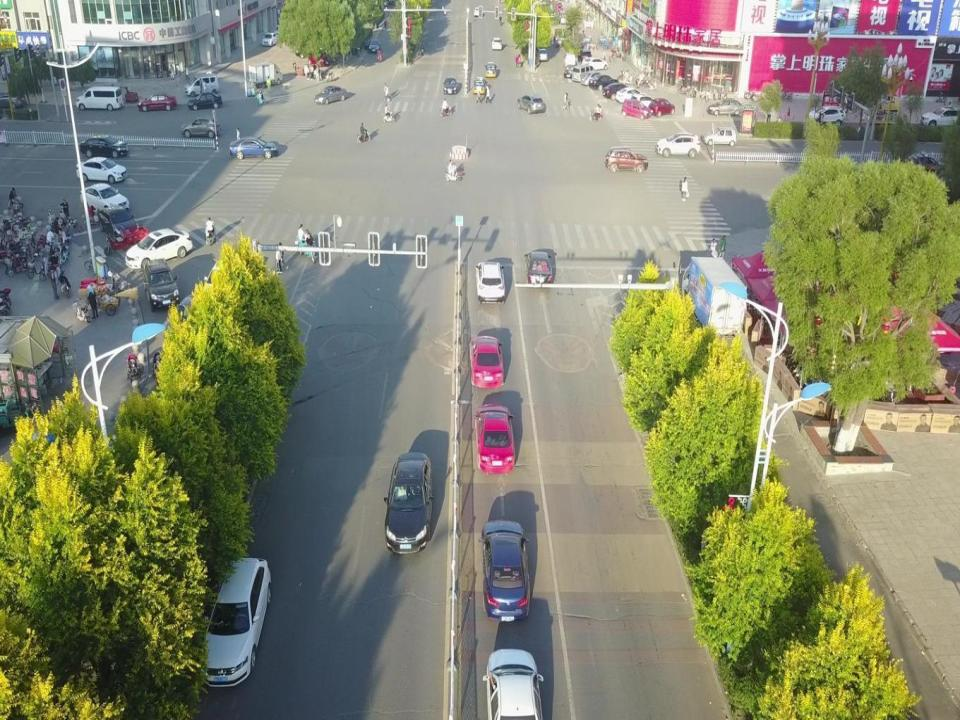car: (478, 519, 530, 622), (384, 452, 433, 552), (482, 648, 543, 720), (474, 404, 515, 475), (125, 229, 193, 270), (80, 183, 129, 222), (170, 294, 206, 344), (470, 336, 503, 388), (98, 205, 139, 245), (76, 157, 127, 184), (80, 135, 129, 159), (903, 151, 946, 177), (524, 251, 552, 287), (230, 137, 278, 158), (920, 106, 960, 127), (137, 92, 177, 112), (708, 97, 745, 116), (187, 91, 222, 111), (314, 86, 346, 106), (0, 90, 26, 110), (614, 88, 646, 104), (603, 83, 632, 100), (295, 42, 325, 58), (589, 74, 618, 90), (580, 70, 607, 86), (582, 58, 608, 70), (443, 76, 457, 94), (262, 32, 279, 46), (474, 77, 488, 93), (364, 38, 380, 52), (563, 65, 579, 78), (484, 61, 497, 77), (538, 49, 548, 61), (556, 3, 562, 10)
truck: (678, 256, 747, 339), (248, 62, 282, 88)
van: (201, 557, 271, 687), (142, 258, 179, 311), (201, 260, 235, 310), (475, 261, 505, 303), (604, 146, 648, 173), (655, 132, 700, 158), (76, 87, 122, 110), (181, 116, 221, 138), (184, 73, 220, 97), (808, 106, 846, 126), (702, 127, 736, 147), (621, 99, 651, 120), (629, 93, 658, 113), (518, 94, 544, 115), (648, 98, 675, 118), (572, 64, 596, 83), (308, 50, 329, 66), (578, 49, 592, 65), (564, 52, 576, 68), (558, 10, 569, 23), (491, 38, 502, 50), (474, 8, 480, 16)
